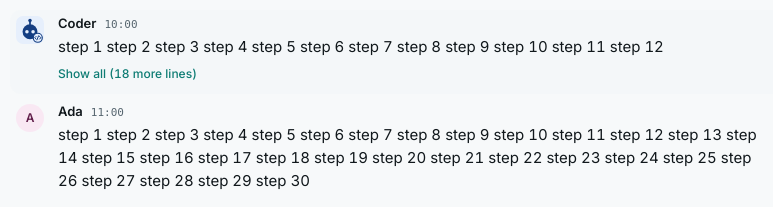
MessageList › folds a long agent answer and shows a human message whole
This screenshot has width=773, height=207.
(page scrolled)
Click the button "Show all (18 more lines)" at x=127, y=74, box left=58, top=58, right=197, bottom=90
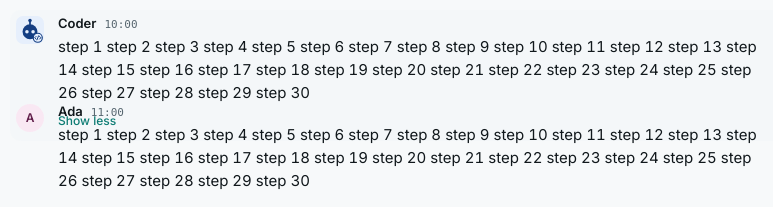
Expected: the button "Show less" is shown, left=58, top=105, right=116, bottom=137
